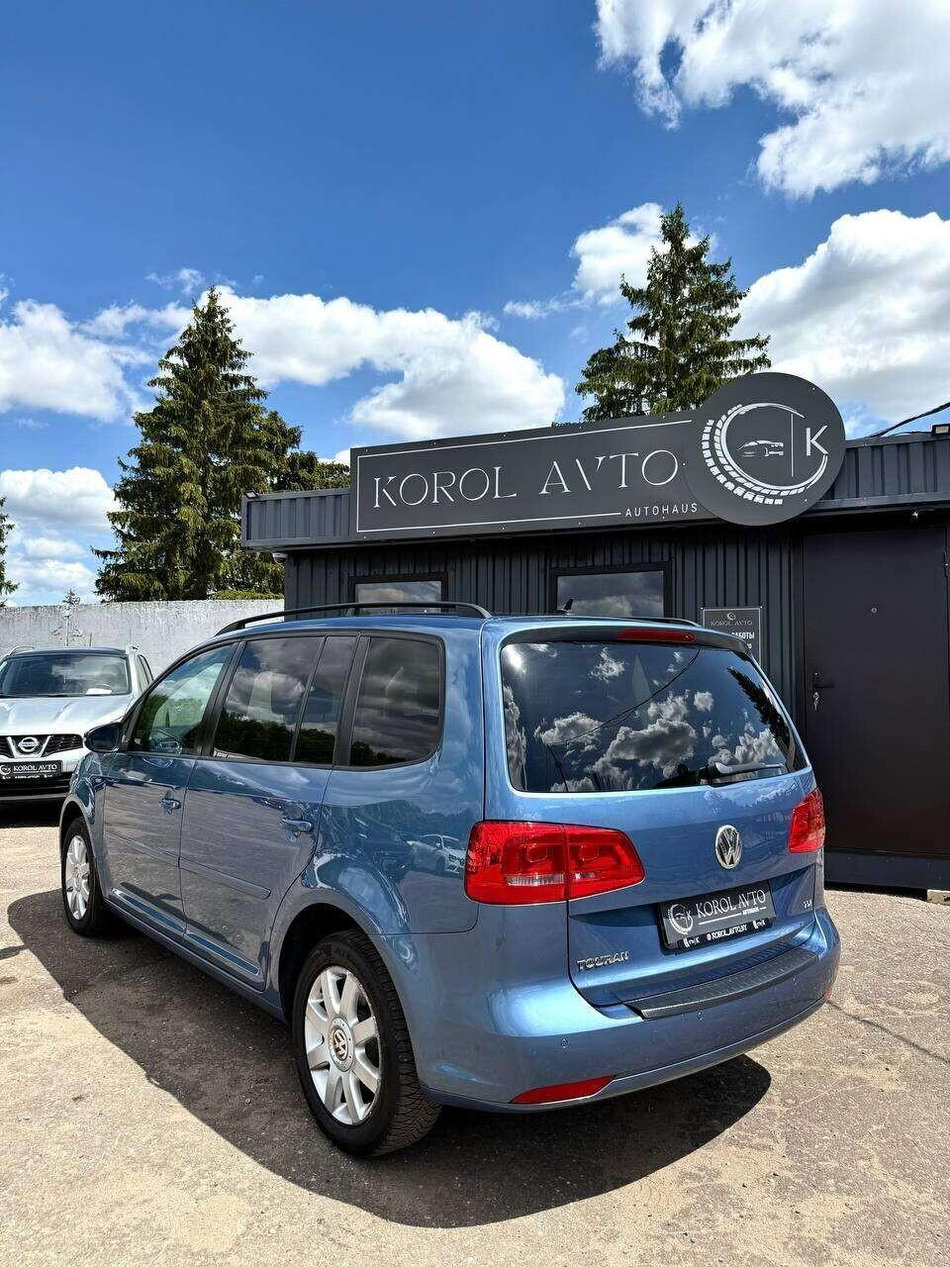Touran_2010-2015: (53, 604, 838, 1158)
